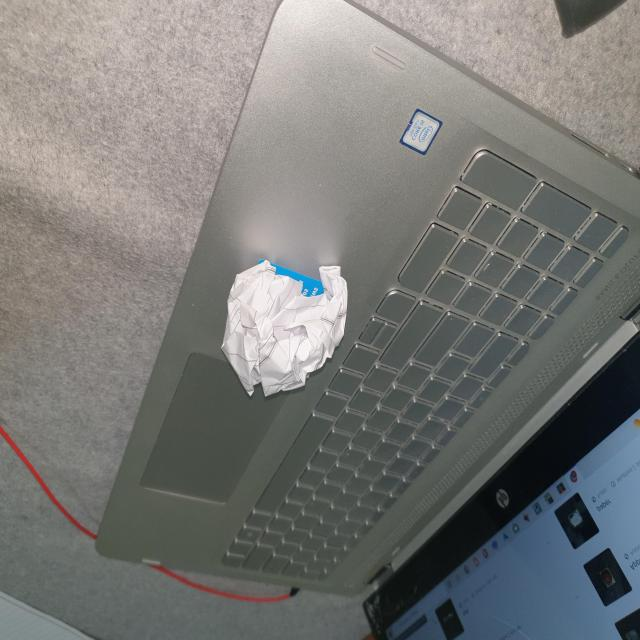kertas: (226, 256, 352, 402)
